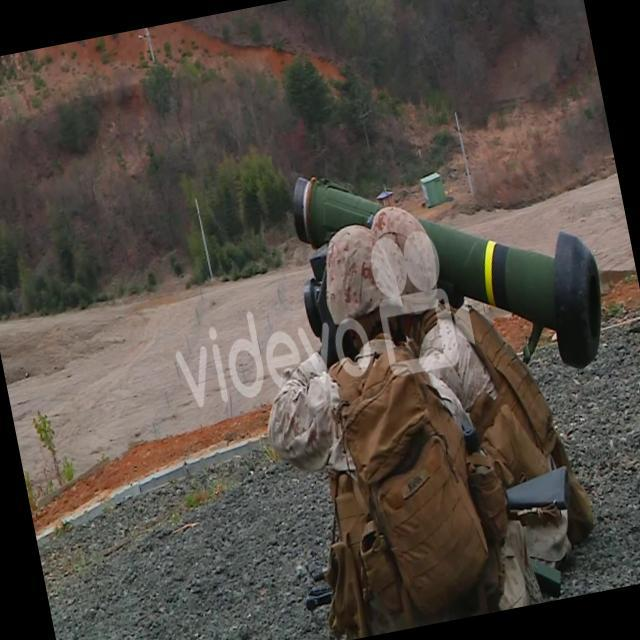rocket: (294, 131, 610, 404)
